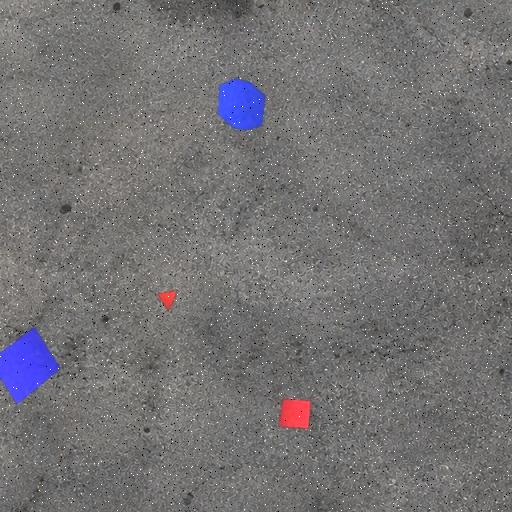BLUE_SQUARE: (0, 326, 62, 406)
RED_SQUARE: (278, 398, 312, 430)
